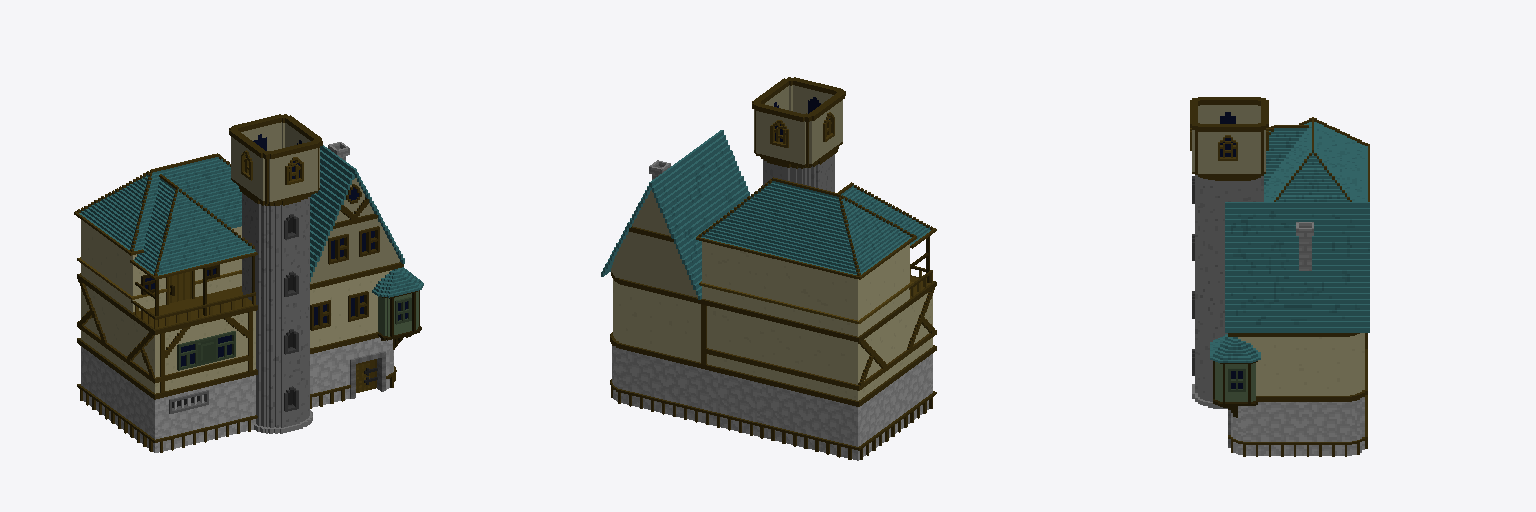
The picture shows the model from 3 angles: view 1: azimuth 30°, elevation 25°; view 2: azimuth 150°, elevation 25°; view 3: azimuth 270°, elevation 25°; orthographic projection.
Visible parts, largest first — view 1: object 1; view 2: object 1; view 3: object 1.
Part boxes in pixels (x1,y1,x2,y2): object 1: (74,114,423,452); object 1: (601,77,936,460); object 1: (1190,97,1369,456).
Bounding box in the file's own units: 12.5 × 12.3 × 7.1.
Materials: 1 (1 with a texture image).